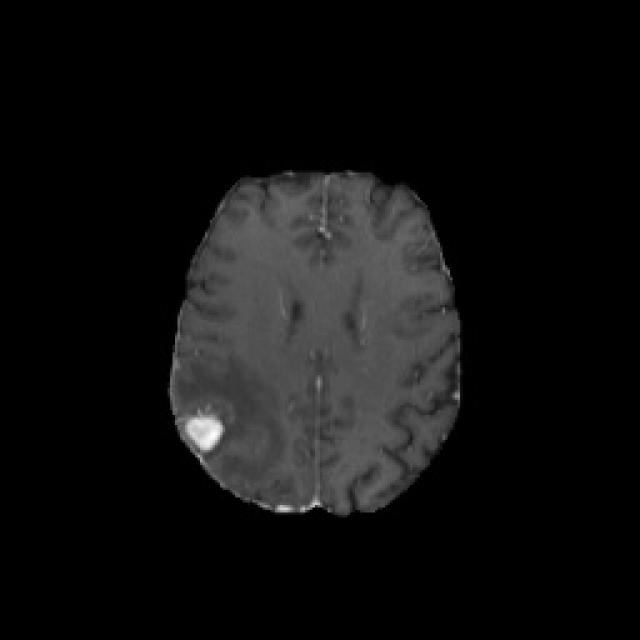positive: (185, 415, 225, 455)
